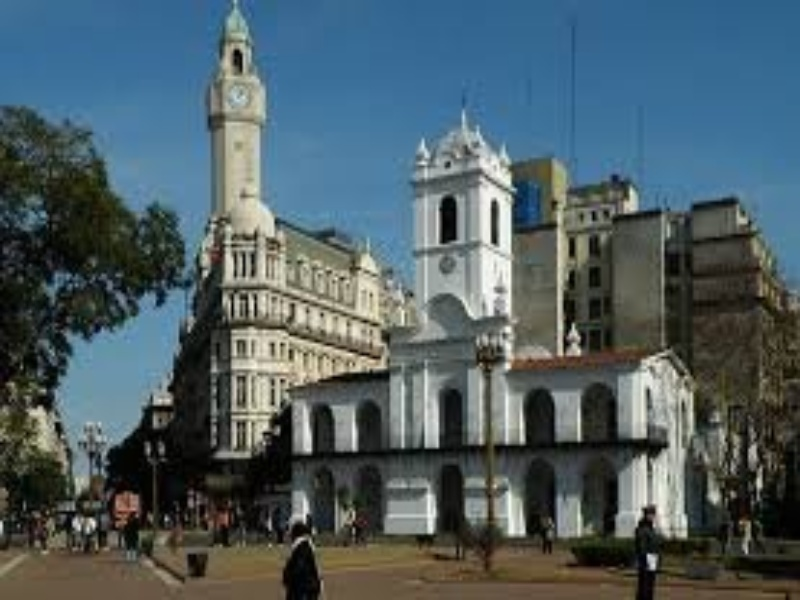cabildo: (280, 83, 666, 540)
